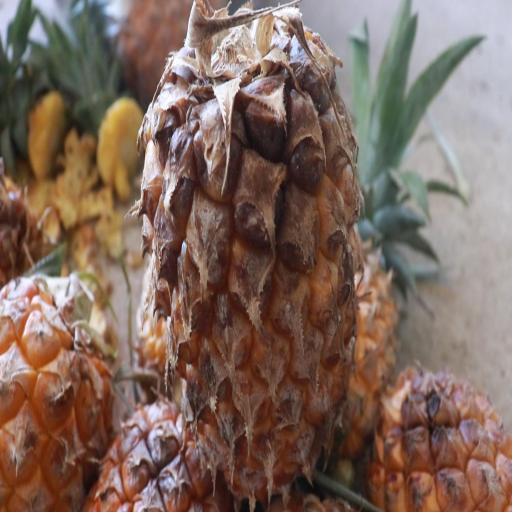Pineapple - v8 v1: (130, 0, 371, 499), (0, 266, 115, 512), (367, 361, 512, 512)
